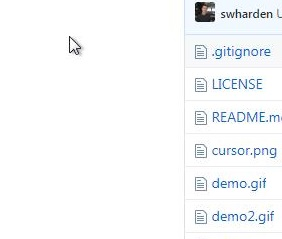cursor: (67, 34, 82, 57)
